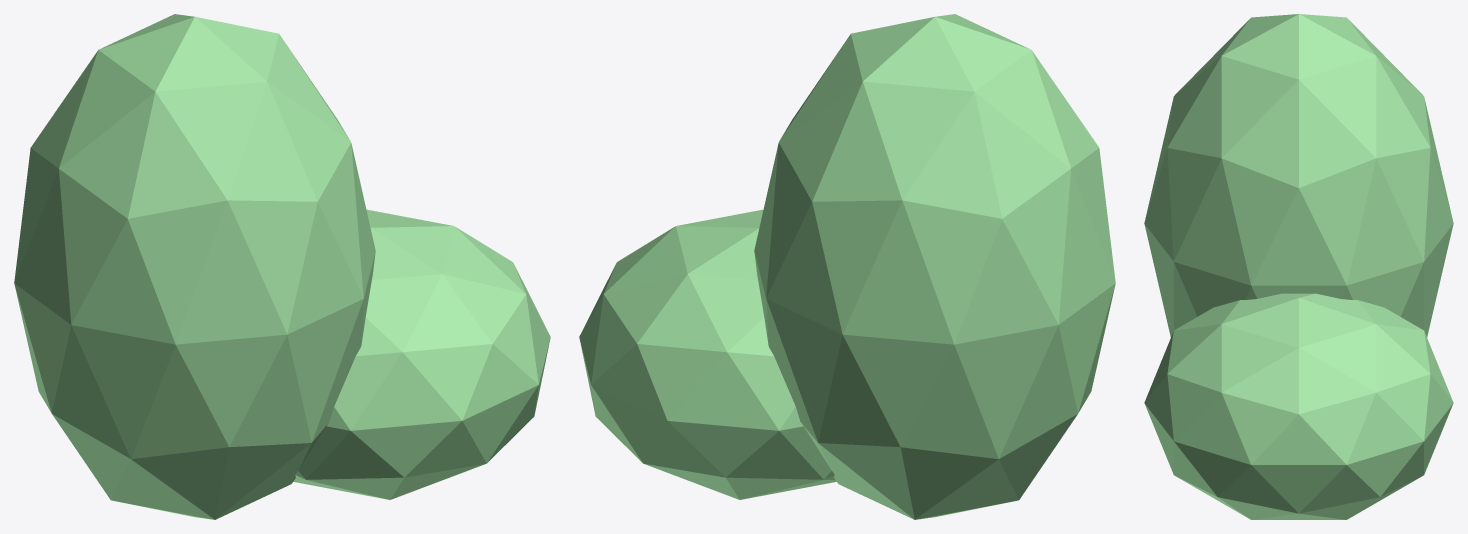
Rendered from bush.glb.
3 renders of one model, left to right at view 1: azimuth 30°, elevation 25°; view 2: azimuth 150°, elevation 25°; view 3: azimuth 270°, elevation 25°, orthographic. The views are drawn at different scales.
Visible parts, largest first — view 1: Icosphere, Icosphere.001; view 2: Icosphere, Icosphere.001; view 3: Icosphere, Icosphere.001.
Boxes of the visible parts, x1,y1,x2,y2 form: Icosphere: (14, 14, 375, 519); Icosphere.001: (293, 209, 550, 499); Icosphere: (754, 14, 1115, 519); Icosphere.001: (579, 209, 836, 499); Icosphere: (1144, 14, 1453, 337); Icosphere.001: (1144, 293, 1453, 519).
Bounding box in the file's own units: 3 × 3.01 × 2.
